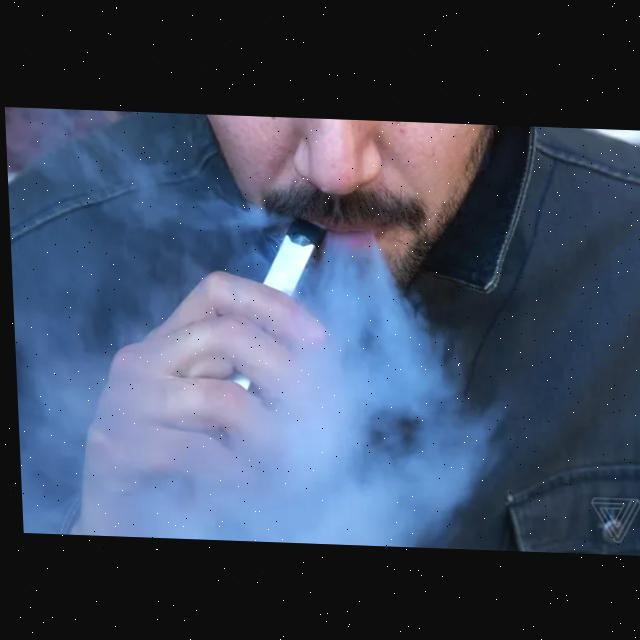vape: (214, 208, 330, 387)
